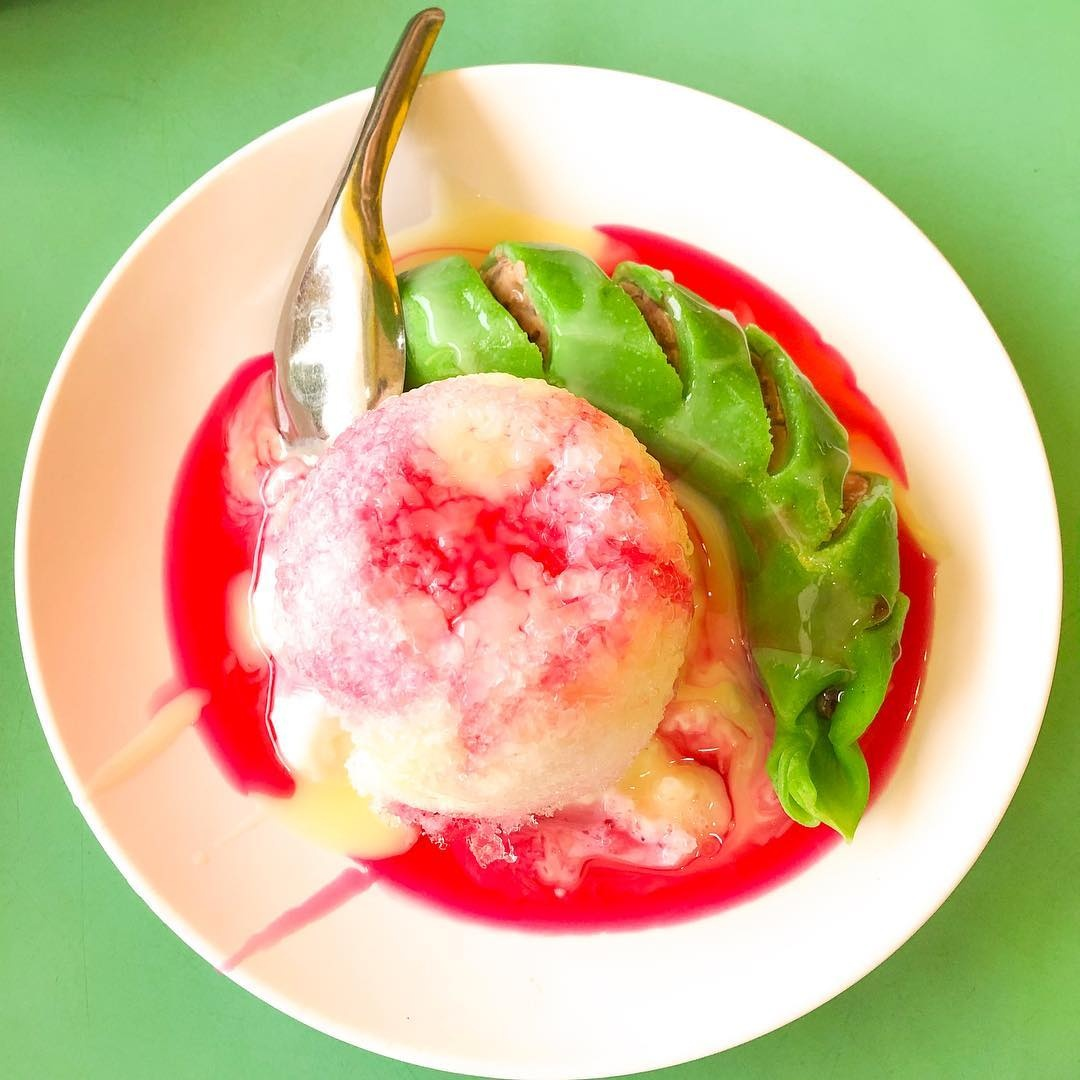es_pisang_ijo: (173, 222, 935, 927)
